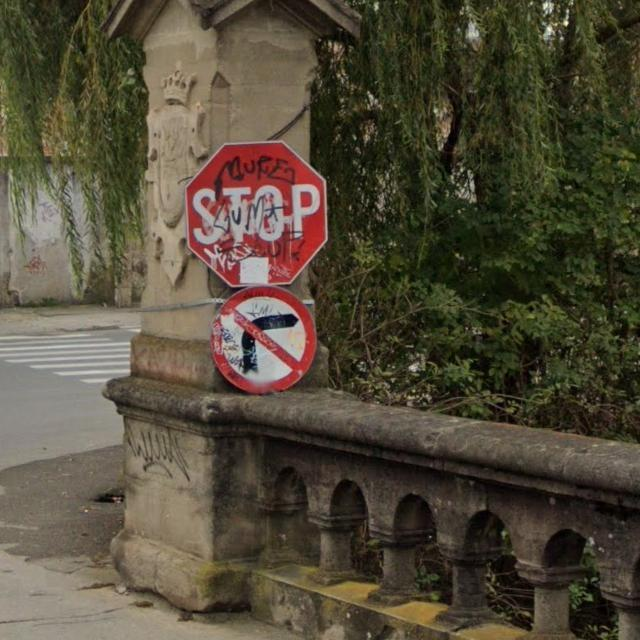prio_stop: (184, 142, 329, 288)
